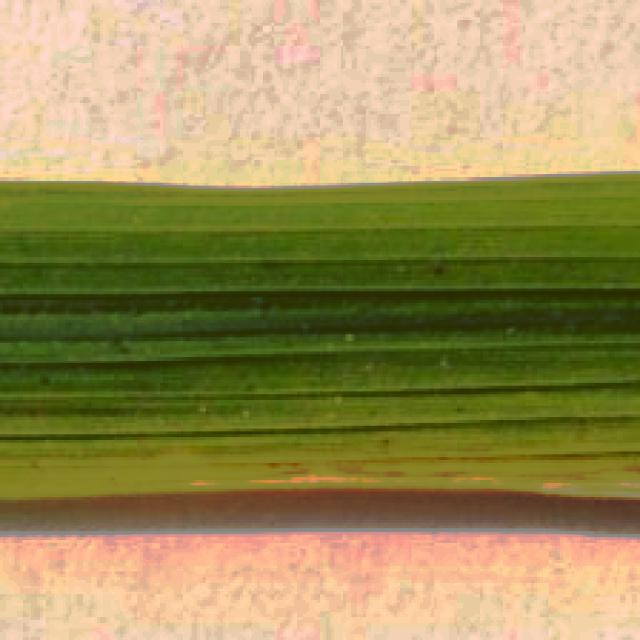unhealth: (0, 194, 640, 498)
